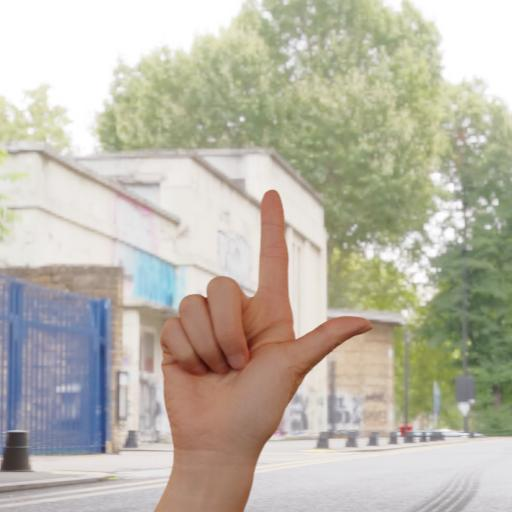L: (150, 182, 381, 456)
